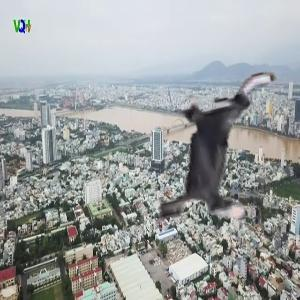drone: (111, 65, 297, 251)
